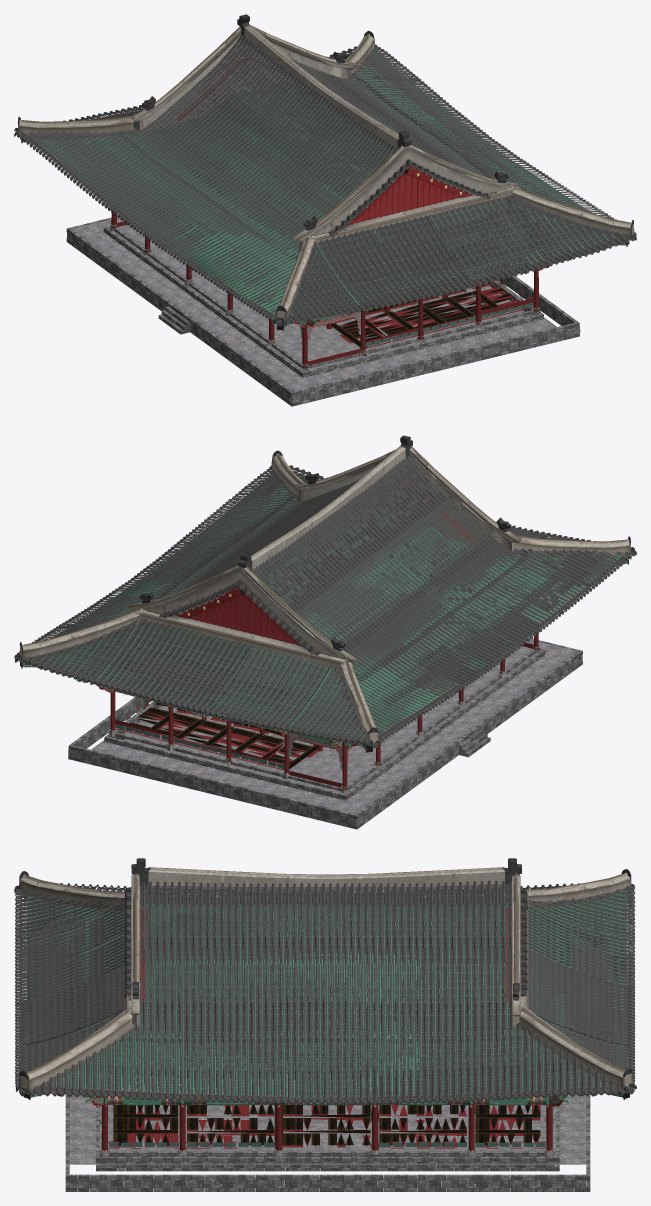
File: gwandeok.glb
3 renders of one model, top to bottom at view 1: azimuth 30°, elevation 25°; view 2: azimuth 150°, elevation 25°; view 3: azimuth 270°, elevation 25°, orthographic. The views are drawn at different scales.
Parts seen in each view (by area): view 1: 1_Gwandeokjeong, 1_Gwandeokjeong_R1_Roof2_0.011, 1_Gwandeokjeong_R1_Roof2_0.012, 1_Gwandeokjeong_R1_Roof2_0.009, 1_Gwandeokjeong_R1_Roof2_0.007, 1_Gwandeokjeong_R1_Roof2_0.006, 1_Gwandeokjeong_R1_Roof2_0.010, 1_Gwandeokjeong_R1_Roof2_0.008, 1_Gwandeokjeong_R1_Roof2_0.014, 1_Gwandeokjeong_R1_Roof2_0.005, 1_Gwandeokjeong_R1_Roof2_0.015, 1_Gwandeokjeong_Mat_MediumBrick01_0.001 (+4 smaller); view 2: 1_Gwandeokjeong, 1_Gwandeokjeong_R1_Roof2_0.001, 1_Gwandeokjeong_R1_Roof2_0.008, 1_Gwandeokjeong_R1_Roof2_0.007, 1_Gwandeokjeong_R1_Roof2_0.010, 1_Gwandeokjeong_R1_Roof2_0.006, 1_Gwandeokjeong_R1_Roof2_0.009, 1_Gwandeokjeong_R1_Roof2_0.005, 1_Gwandeokjeong_R1_Roof2_0.011, 1_Gwandeokjeong_R1_Roof2_0.015, 1_Gwandeokjeong_R1_Roof2_0.014, 1_Gwandeokjeong_Mat_MediumBrick02_0.001 (+6 smaller); view 3: 1_Gwandeokjeong, 1_Gwandeokjeong_R1_Roof2_0.001, 1_Gwandeokjeong_R1_Roof2_0.002, 1_Gwandeokjeong_R1_Roof2_0.003, 1_Gwandeokjeong_R1_Roof2_0.004, 1_Gwandeokjeong_R1_Roof2_0.015, 1_Gwandeokjeong_R1_Roof2_0.011, 1_Gwandeokjeong_R1_Roof2_0.014, 1_Gwandeokjeong_R1_Roof2_0.016, 1_Gwandeokjeong_R1_Roof2_0.012, 1_Gwandeokjeong_R1_Roof2_0.013, 1_Gwandeokjeong_Dancheong_1_0.002 (+2 smaller).
Boxes of the visible parts, x1,y1,x2,y2 form: 1_Gwandeokjeong: (14, 14, 636, 406); 1_Gwandeokjeong_R1_Roof2_0.011: (18, 133, 628, 319); 1_Gwandeokjeong_R1_Roof2_0.012: (286, 194, 631, 323); 1_Gwandeokjeong_R1_Roof2_0.009: (23, 35, 330, 270); 1_Gwandeokjeong_R1_Roof2_0.007: (86, 94, 315, 246); 1_Gwandeokjeong_R1_Roof2_0.006: (22, 35, 396, 267); 1_Gwandeokjeong_R1_Roof2_0.010: (116, 65, 396, 316); 1_Gwandeokjeong_R1_Roof2_0.008: (127, 121, 351, 315); 1_Gwandeokjeong_R1_Roof2_0.014: (291, 47, 616, 219); 1_Gwandeokjeong_R1_Roof2_0.005: (17, 37, 397, 321); 1_Gwandeokjeong_R1_Roof2_0.015: (293, 60, 591, 206); 1_Gwandeokjeong_Mat_MediumBrick01_0.001: (68, 229, 543, 402); 1_Gwandeokjeong: (14, 435, 636, 829); 1_Gwandeokjeong_R1_Roof2_0.001: (28, 495, 367, 739); 1_Gwandeokjeong_R1_Roof2_0.008: (347, 502, 627, 669); 1_Gwandeokjeong_R1_Roof2_0.007: (310, 533, 516, 697); 1_Gwandeokjeong_R1_Roof2_0.010: (288, 457, 628, 622); 1_Gwandeokjeong_R1_Roof2_0.006: (255, 459, 546, 736); 1_Gwandeokjeong_R1_Roof2_0.009: (252, 523, 557, 737); 1_Gwandeokjeong_R1_Roof2_0.005: (253, 455, 634, 742); 1_Gwandeokjeong_R1_Roof2_0.011: (289, 466, 633, 740); 1_Gwandeokjeong_R1_Roof2_0.015: (115, 480, 358, 618); 1_Gwandeokjeong_R1_Roof2_0.014: (35, 468, 269, 642); 1_Gwandeokjeong_Mat_MediumBrick02_0.001: (156, 653, 581, 824); 1_Gwandeokjeong: (14, 858, 636, 1191); 1_Gwandeokjeong_R1_Roof2_0.001: (117, 884, 629, 1080); 1_Gwandeokjeong_R1_Roof2_0.002: (37, 885, 344, 1096); 1_Gwandeokjeong_R1_Roof2_0.003: (225, 951, 423, 1099); 1_Gwandeokjeong_R1_Roof2_0.004: (136, 880, 623, 1097); 1_Gwandeokjeong_R1_Roof2_0.015: (122, 947, 541, 1095); 1_Gwandeokjeong_R1_Roof2_0.011: (20, 883, 579, 1072); 1_Gwandeokjeong_R1_Roof2_0.014: (34, 947, 620, 1100); 1_Gwandeokjeong_R1_Roof2_0.016: (34, 880, 512, 1094); 1_Gwandeokjeong_R1_Roof2_0.012: (15, 888, 125, 1086); 1_Gwandeokjeong_R1_Roof2_0.013: (14, 889, 625, 1105); 1_Gwandeokjeong_Dancheong_1_0.002: (101, 1095, 568, 1107).
Bounding box in the file's own units: 21.66 × 12.16 × 27.41.
18 materials, 18 textured.
